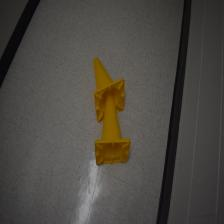cone: (95, 92, 131, 166), (93, 57, 125, 122)
